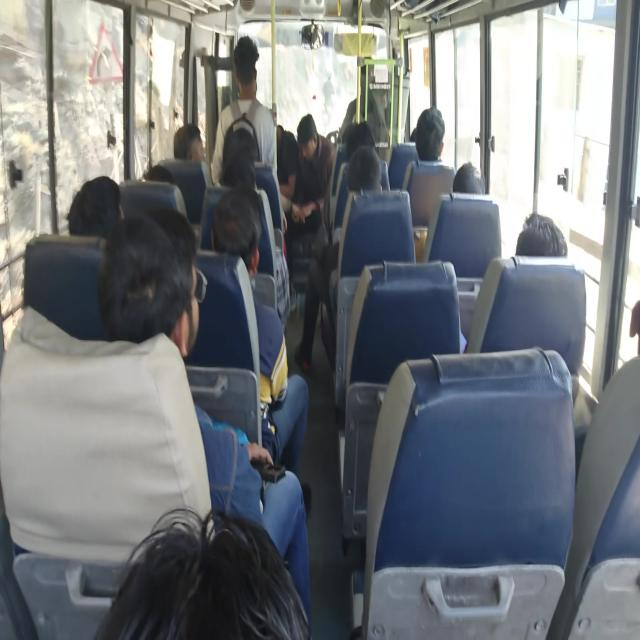person: (146, 525, 278, 640), (99, 226, 162, 330), (238, 36, 282, 160), (615, 276, 640, 437), (65, 169, 110, 242), (517, 202, 552, 272), (215, 194, 251, 252), (410, 103, 445, 158), (228, 160, 265, 198), (269, 101, 297, 149), (292, 112, 316, 160), (172, 127, 202, 165), (354, 127, 379, 162), (351, 152, 380, 182), (340, 121, 368, 152), (463, 165, 487, 196), (230, 149, 252, 182), (144, 160, 167, 190), (403, 124, 418, 143)
